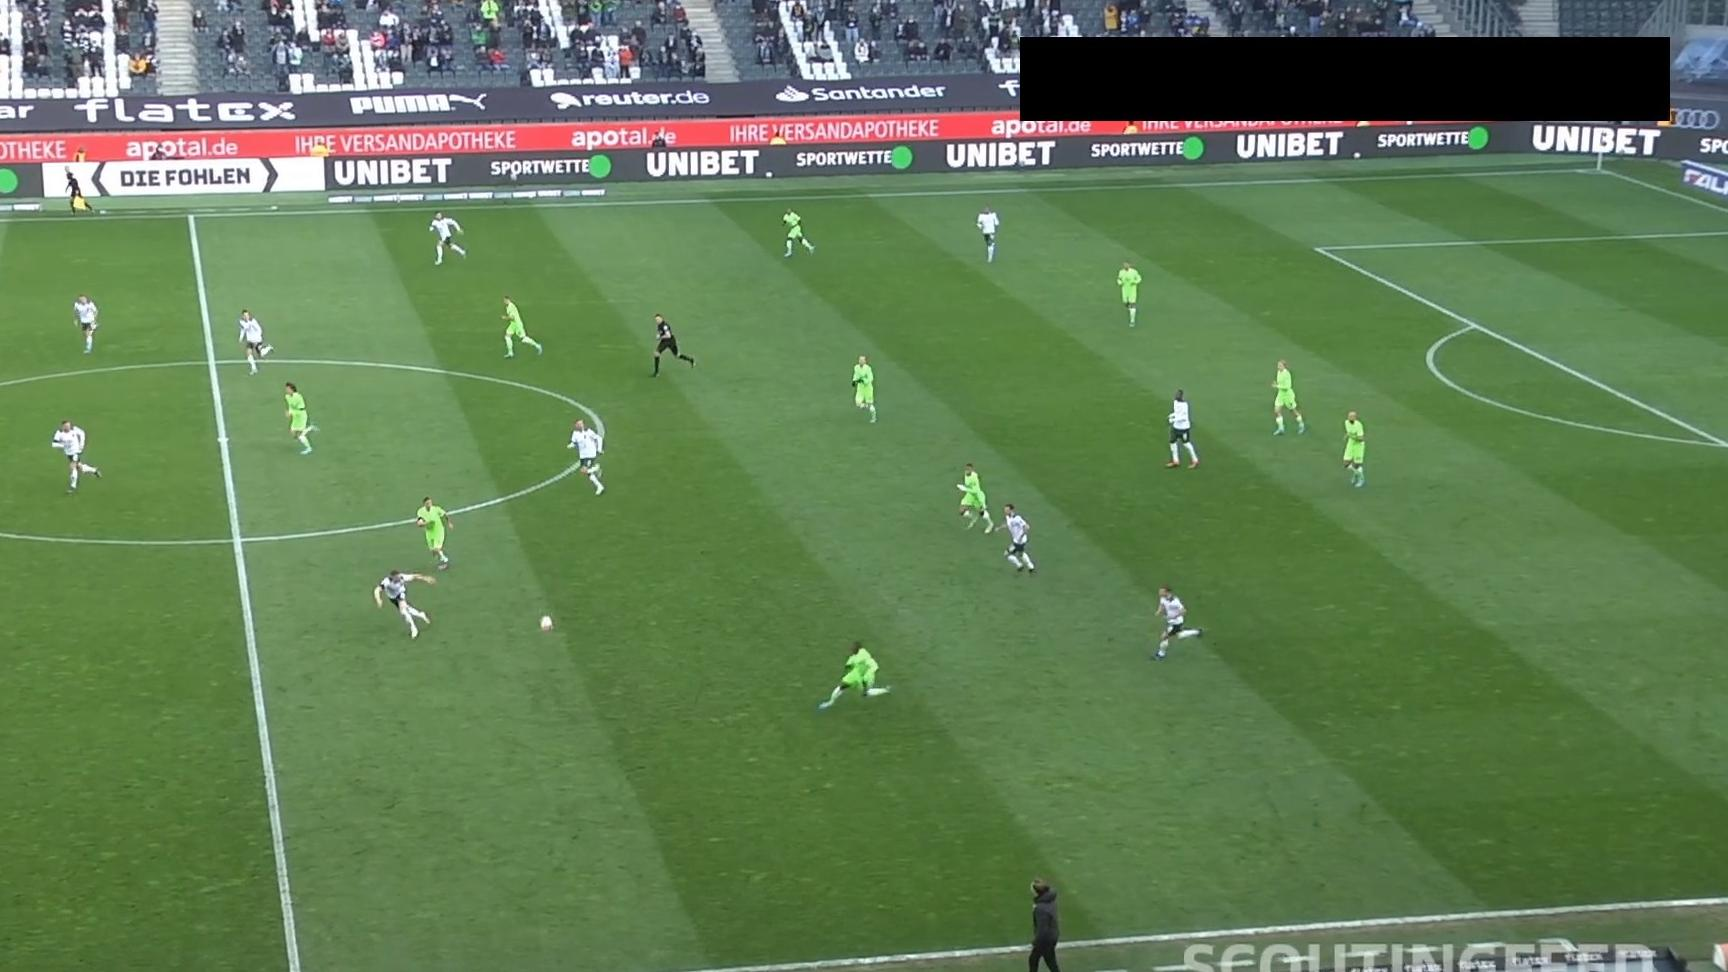ball: (537, 614, 557, 635)
